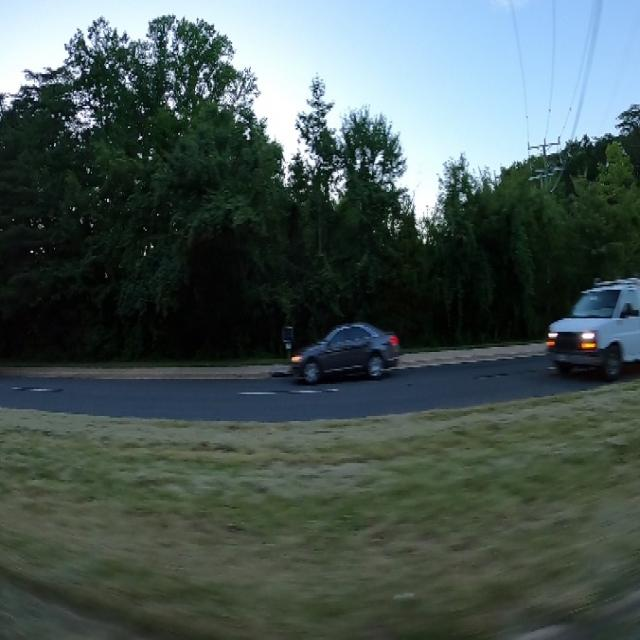Jeep: (542, 286, 640, 388), (283, 308, 399, 384)
